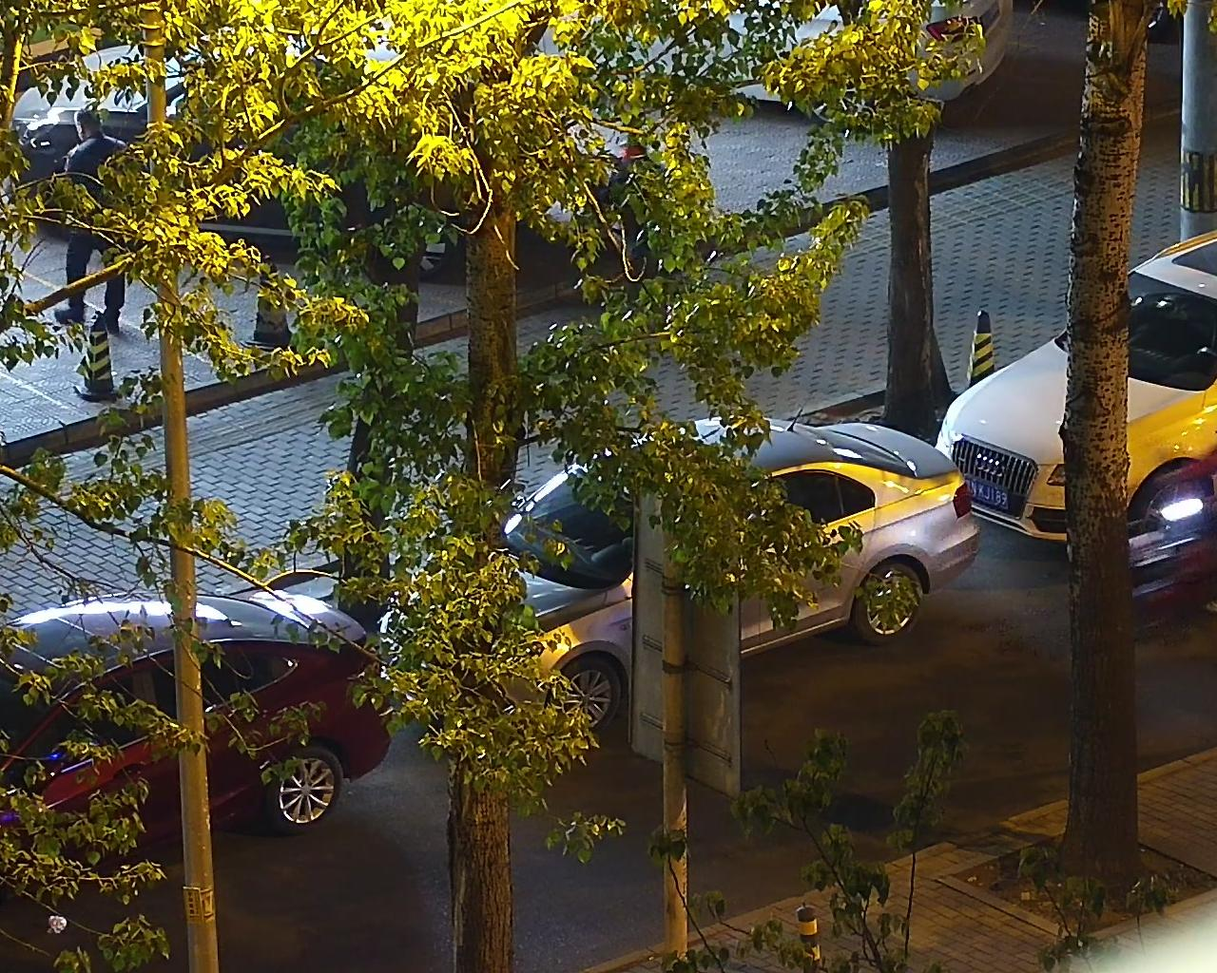person: (55, 112, 136, 333), (579, 120, 665, 317)
